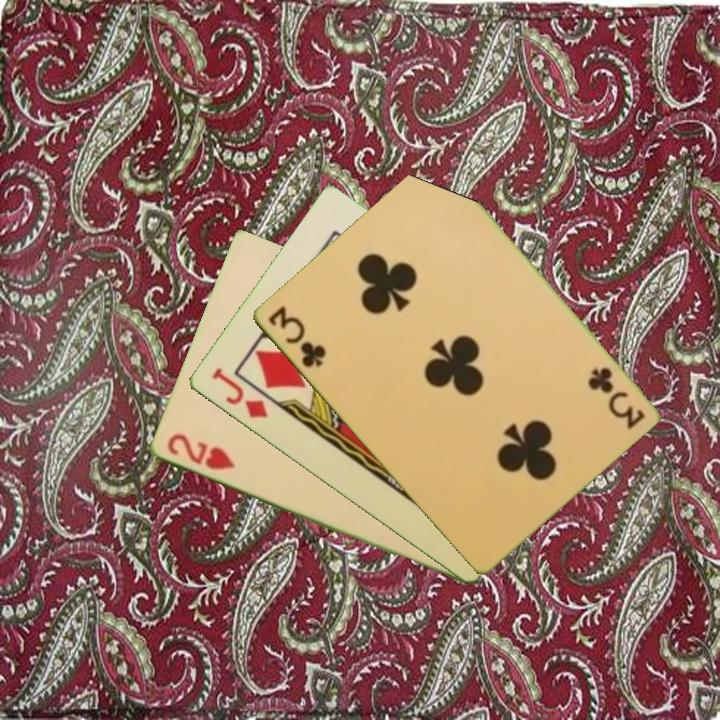2h: (163, 430, 238, 473)
3c: (263, 302, 328, 371), (585, 363, 647, 431)
Jd: (207, 364, 270, 422)
